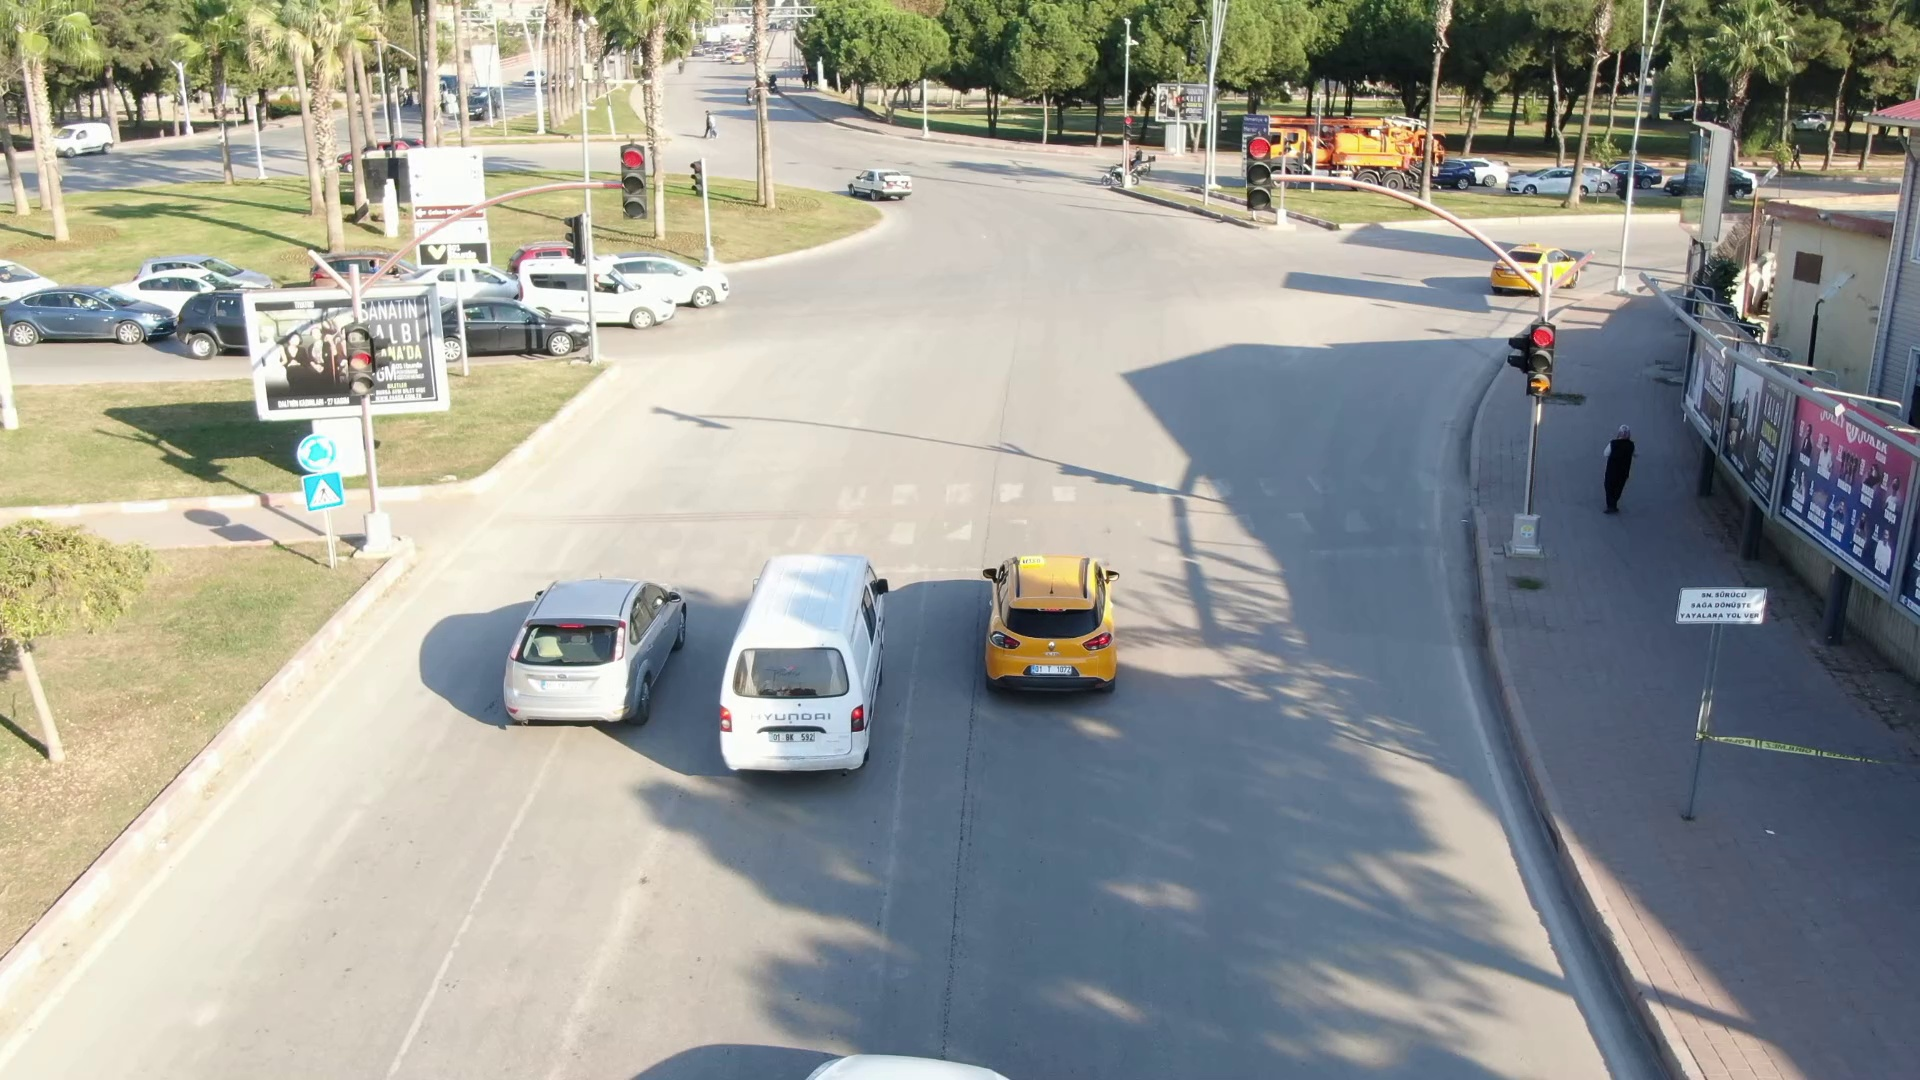car: (710, 554, 890, 788), (500, 563, 690, 733), (968, 543, 1127, 702), (519, 255, 674, 327), (445, 294, 596, 357), (604, 249, 737, 302), (1480, 247, 1592, 298), (843, 166, 923, 202)
person: (1594, 415, 1639, 515)
